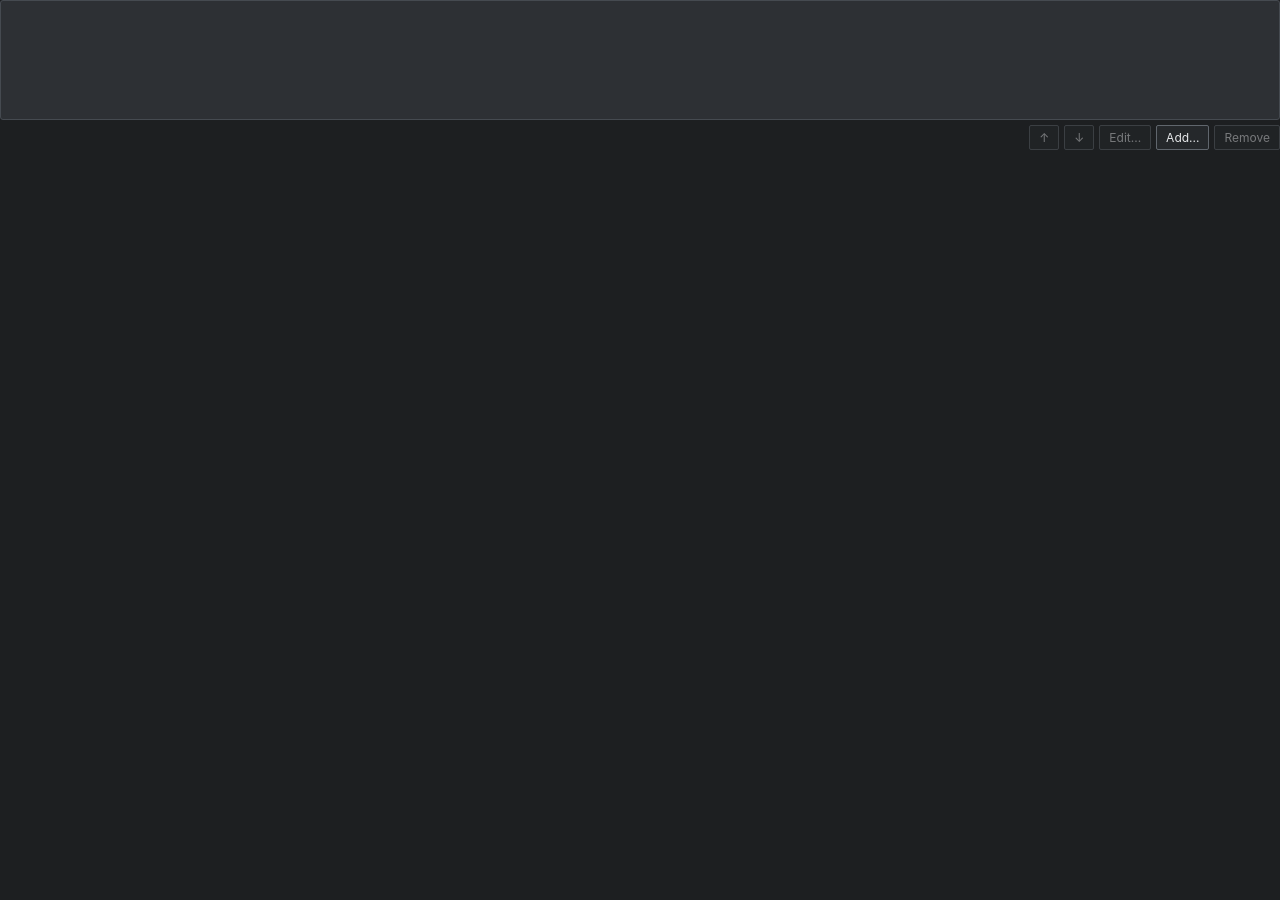
Test: MethodOverrideListEditor › writes nothing when the picker is cancelled
Click the button "Add..." at (1183,138), box [1156,125,1210,150]
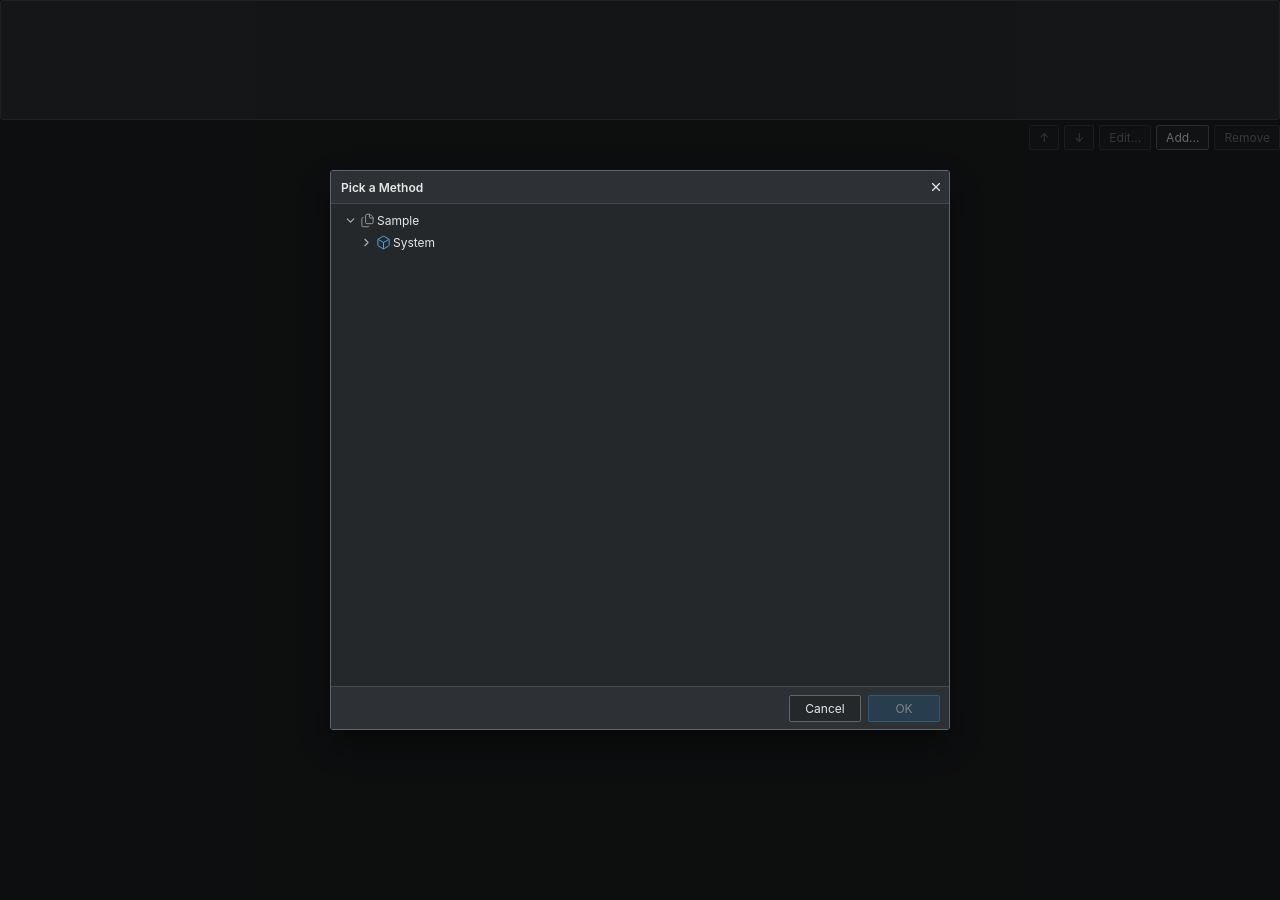
Now the text "Sample" is shown, box [377,212,419,228]
Click the button named "Expand" at (366,242), box [358,233,374,251]
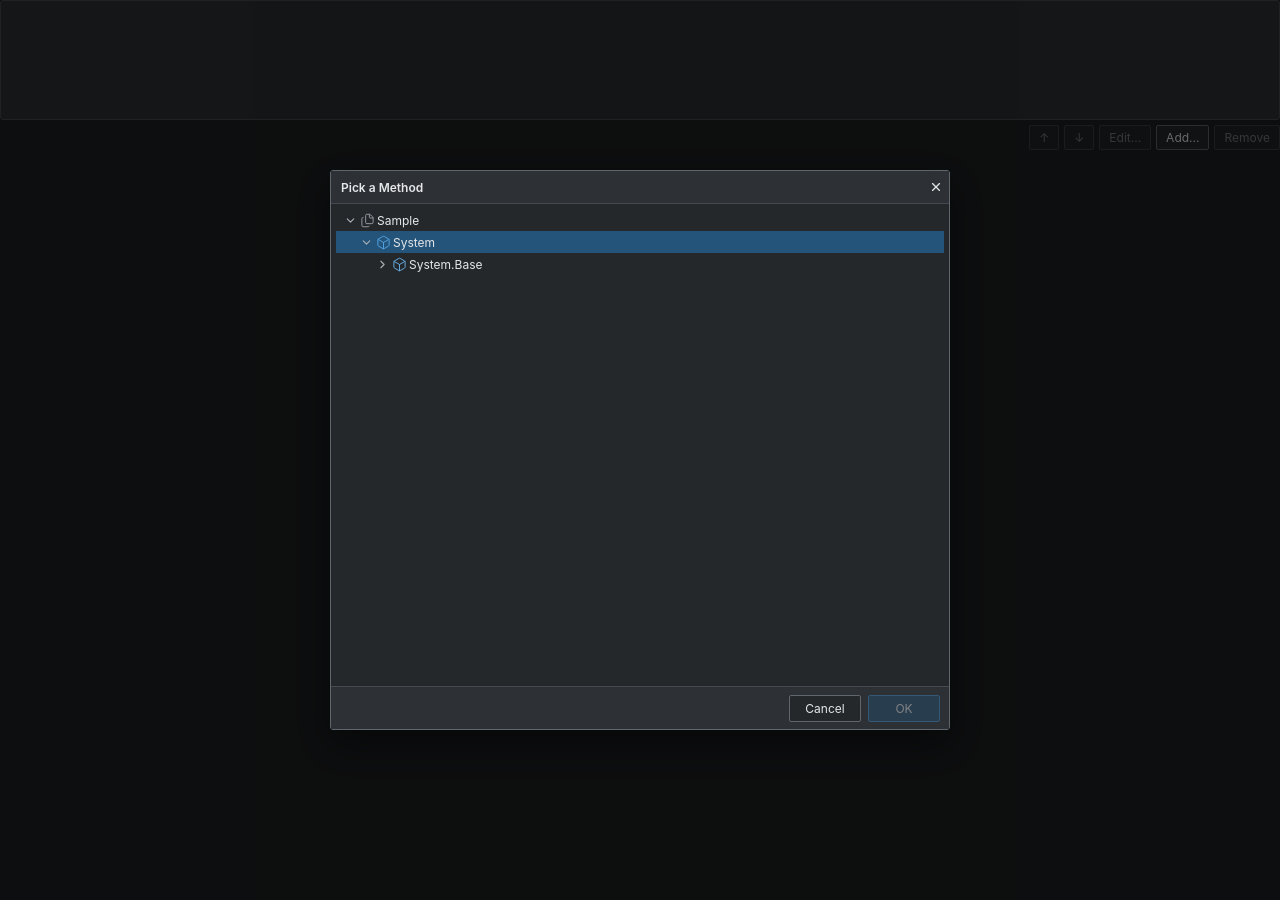
Now the text "System.Base" is shown, box [409,256,482,272]
Click the button named "Expand" at (382,264), box [374,255,390,273]
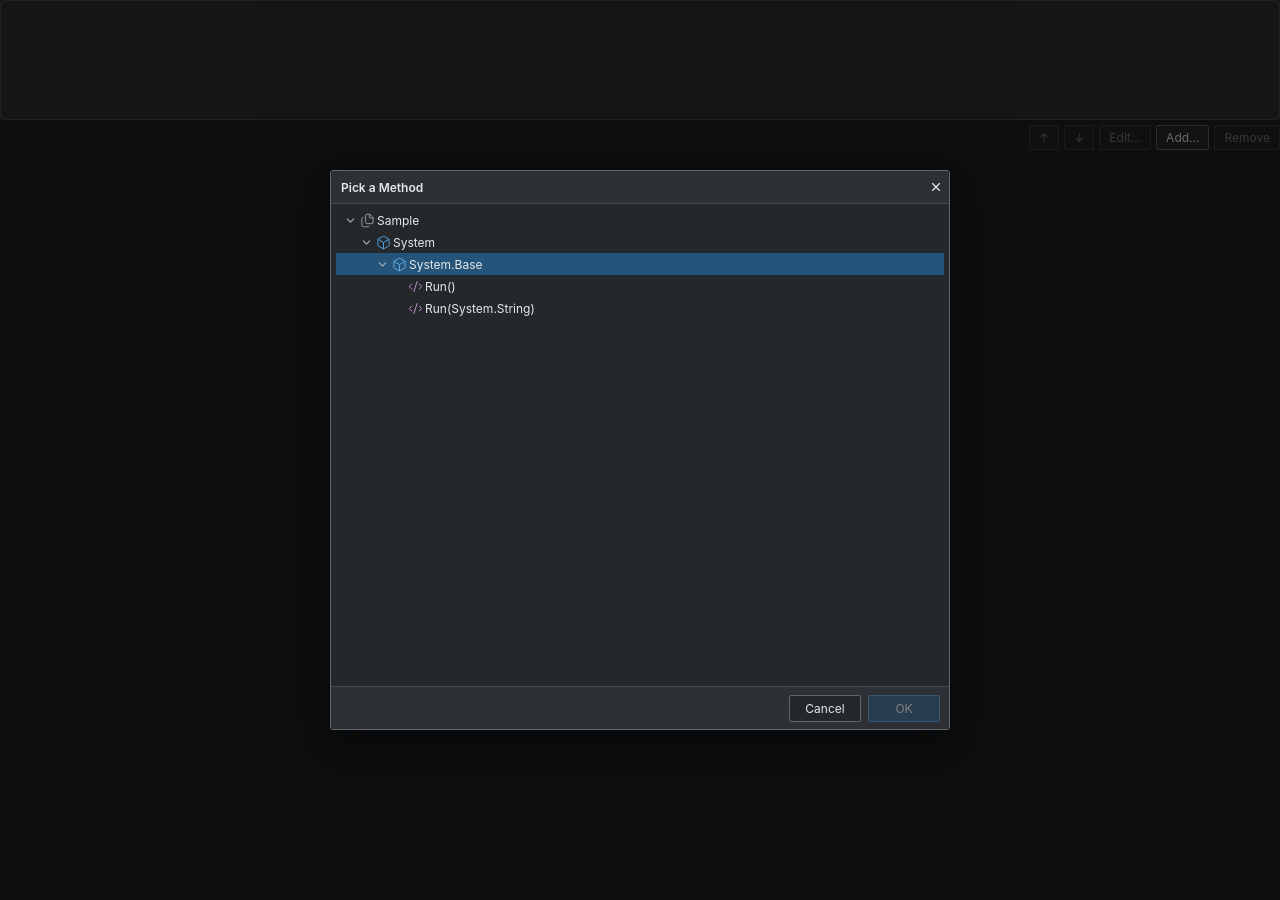
Click the text "Run(System.String)" at (480,308), box [425,300,535,316]
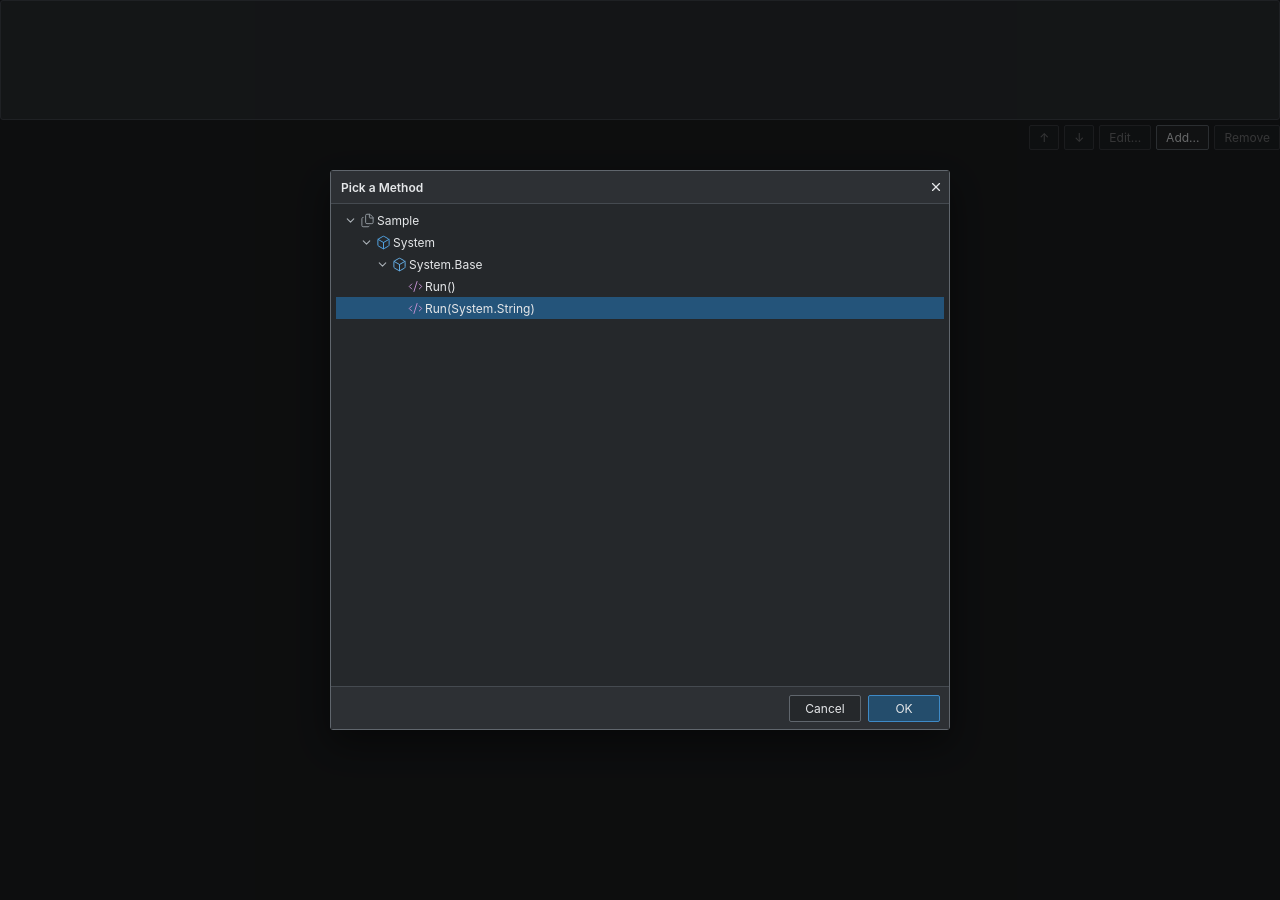
Click the button "Cancel" at (825,708), box [789,694,861,722]
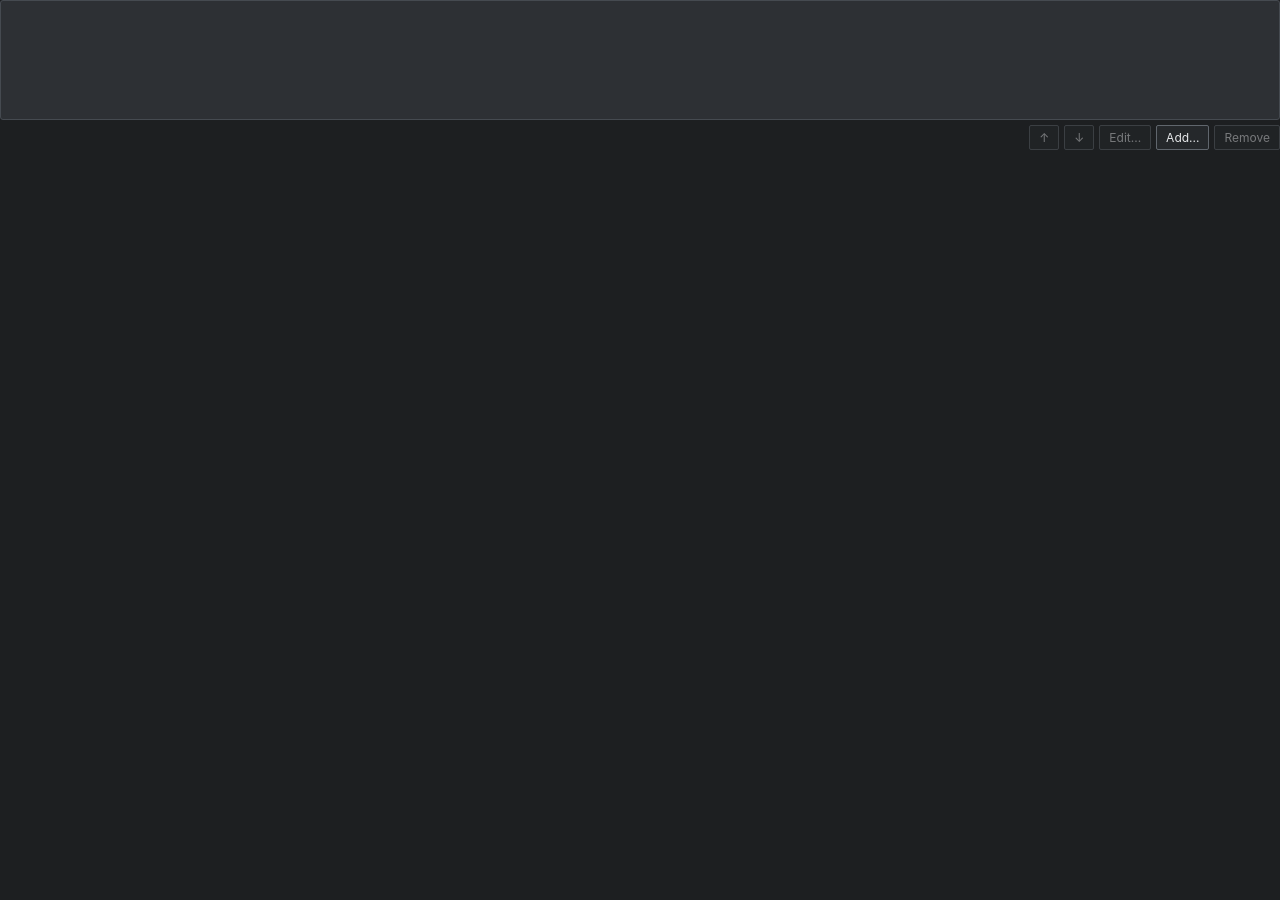
Now the text "Pick a Method" is gone
